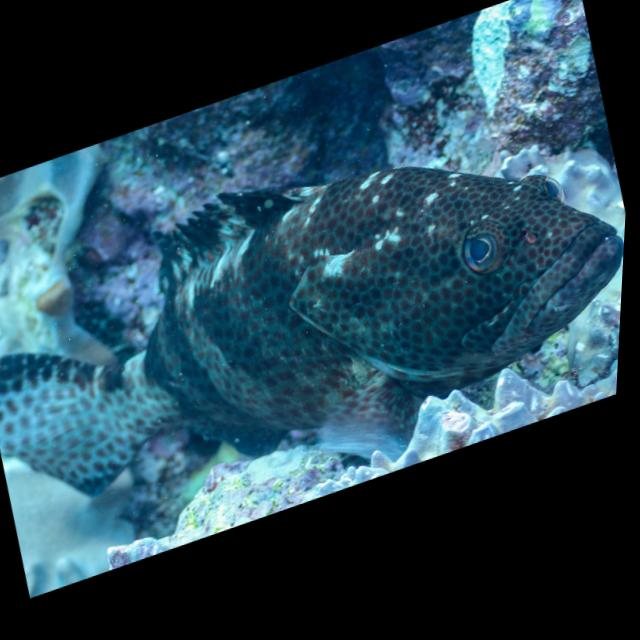Groupers: (0, 61, 633, 546)
